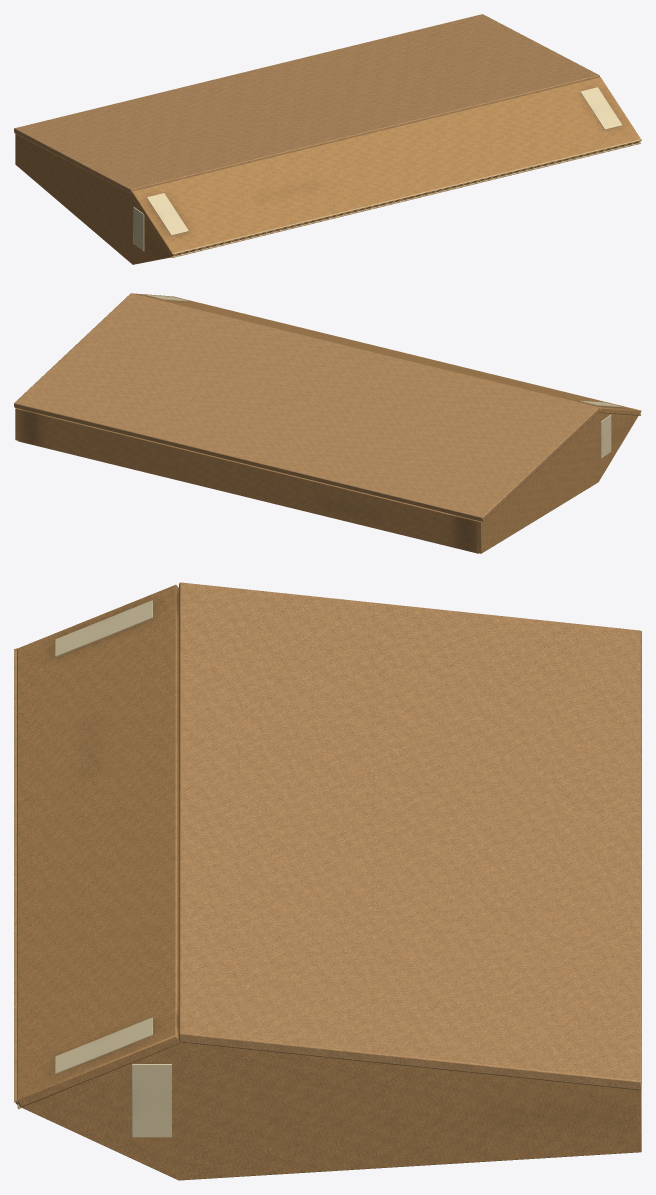
File: 4-propped-corrugated-awning.fbx
The picture shows the model from 3 angles, top to bottom: view 1: azimuth 30°, elevation 25°; view 2: azimuth 150°, elevation 25°; view 3: azimuth 270°, elevation 25°; orthographic projection. The views are drawn at different scales.
Parts seen in each view (by area): view 1: propped-corrugated-awning; view 2: propped-corrugated-awning; view 3: propped-corrugated-awning.
Part boxes in pixels (box(x1,y1,x2,y2)): propped-corrugated-awning: box(14, 14, 641, 264); propped-corrugated-awning: box(14, 293, 641, 553); propped-corrugated-awning: box(14, 582, 641, 1180).
Size of the model in its own units: 12000 by 1847 by 7057.
1 material, 1 textured.
